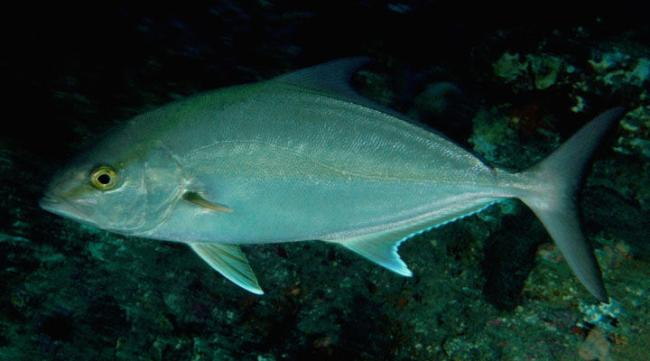fish: (39, 57, 631, 303)
